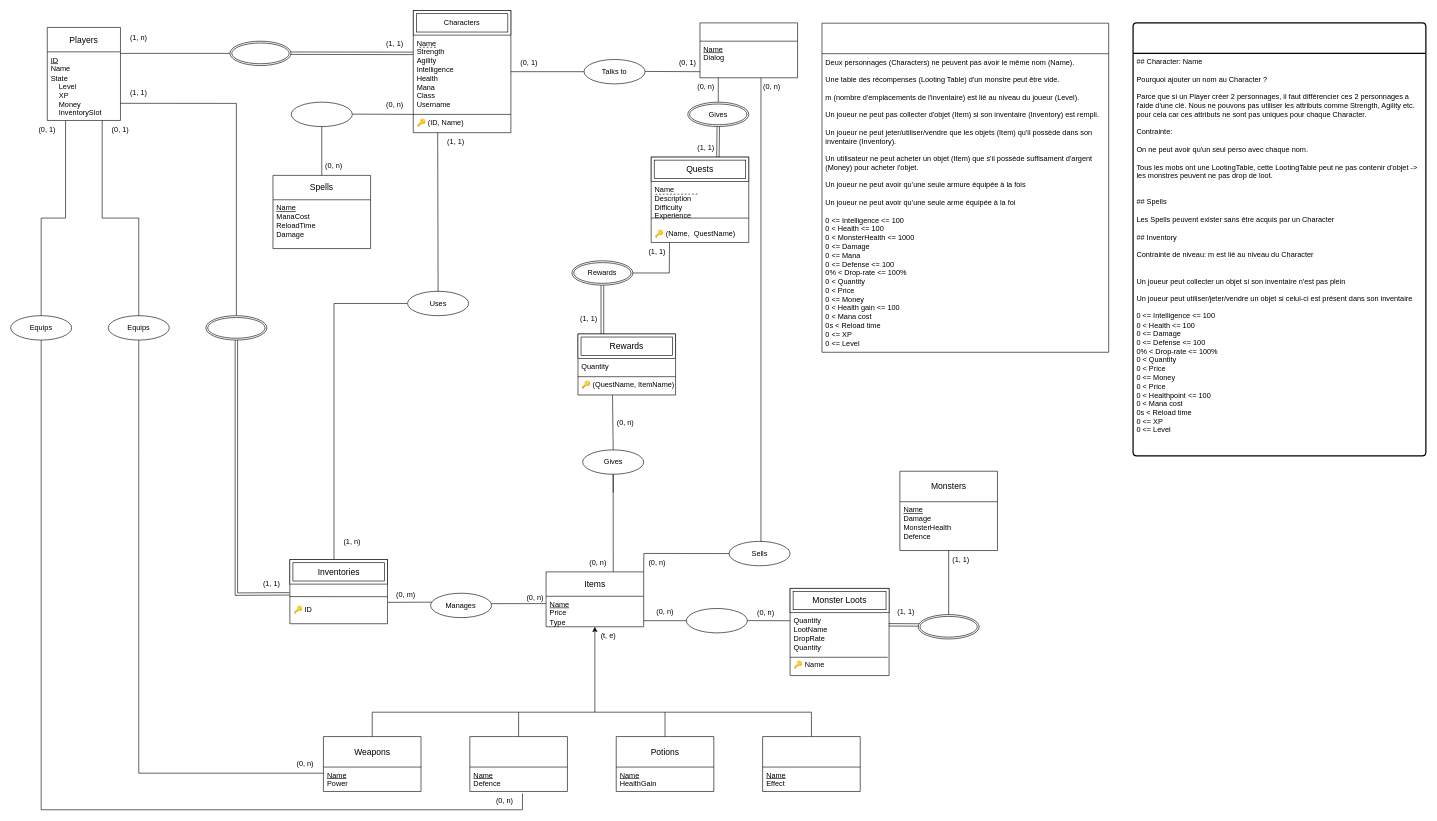
The diagram is 1437 pixels wide and 821 high, and some of its shapes have lost their labels. The box of each missing label's shape, as (x1, y1, x2, y2) in pixels:
Armors: (469, 736, 567, 791)
Artefacts: (762, 736, 860, 791)
Contains: (686, 608, 747, 633)
Contraintes: (821, 23, 1109, 352)
Creates: (229, 41, 291, 66)
Fights with: (291, 102, 352, 127)
Has: (918, 614, 979, 639)
NPCs: (699, 22, 798, 78)
Owns: (205, 315, 267, 340)
Stuff: (1132, 22, 1426, 456)
